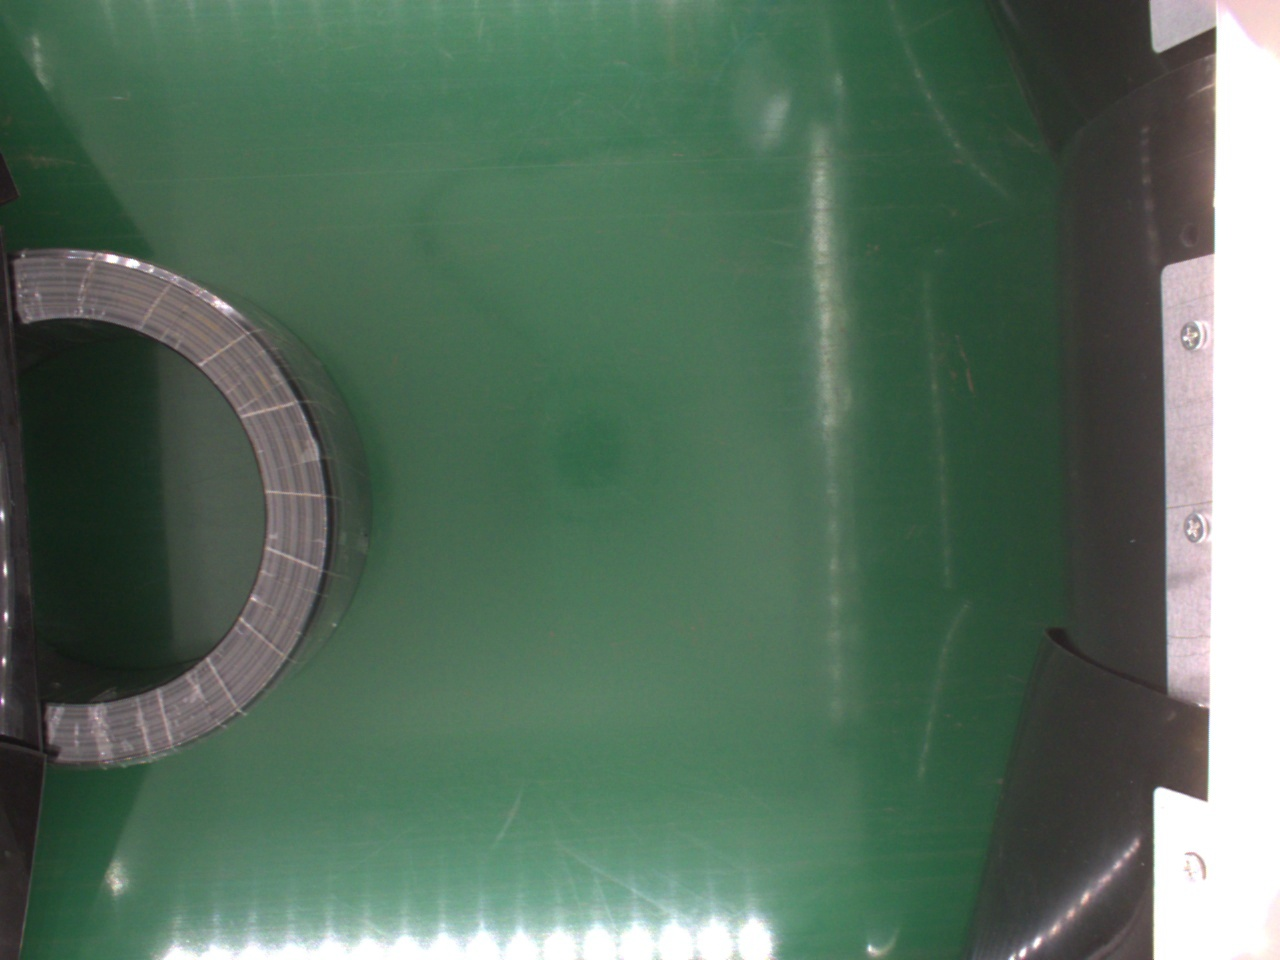black: (12, 240, 364, 767)
